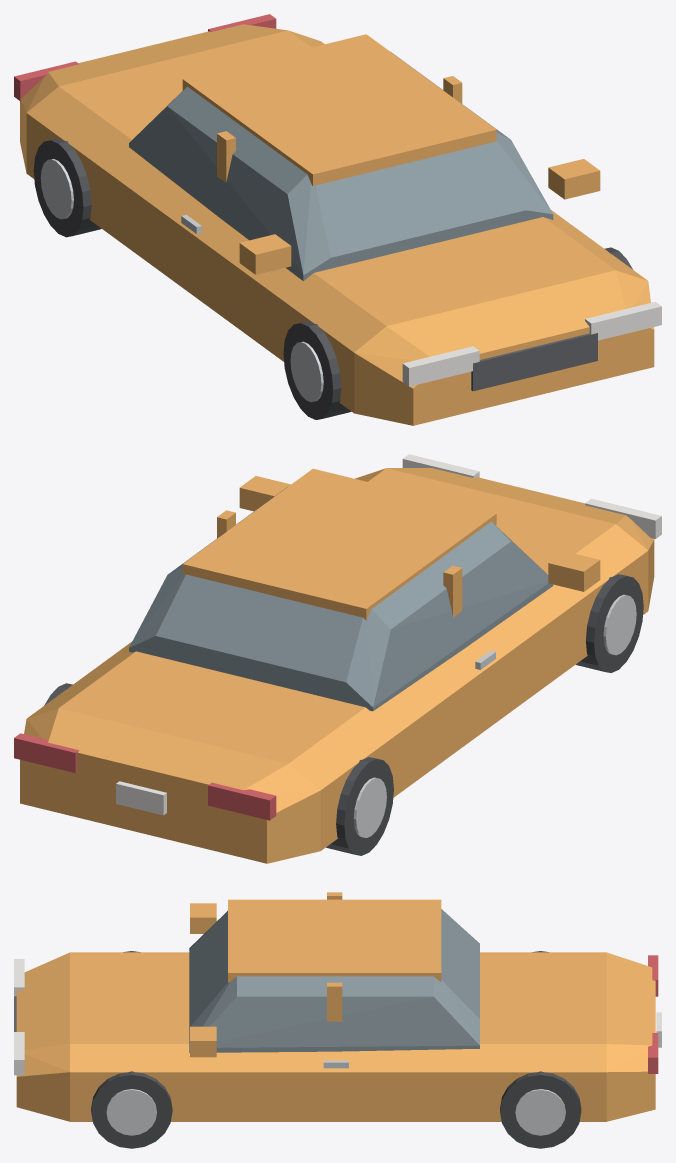
The model's file is temerario-2026.glb.
3 views of the same model, one above another, from view 1: azimuth 30°, elevation 25°; view 2: azimuth 150°, elevation 25°; view 3: azimuth 270°, elevation 25° (orthographic). The views are drawn at different scales.
Parts seen in each view (by area): view 1: body, cabin_glass, roof, grille, wheel_-1_1_tire, wheel_-1_-1_tire, headlight_-1, headlight_1, mirror_-1, mirror_1, wheel_-1_1_rim, wheel_-1_-1_rim (+2 smaller); view 2: body, cabin_glass, roof, wheel_-1_1_tire, wheel_-1_-1_tire, taillight_-1, mirror_-1, taillight_1, wheel_-1_1_rim, wheel_-1_-1_rim, rear_plate, mirror_1 (+3 smaller); view 3: body, cabin_glass, roof, wheel_1_-1_tire, wheel_1_1_tire, wheel_1_1_rim, wheel_1_-1_rim, mirror_1, mirror_-1, pillar_1, headlight_1, taillight_1.
Boxes of the visible parts, x1,y1,x2,y2 form: body: [20, 24, 654, 425]; cabin_glass: [129, 51, 553, 280]; roof: [182, 34, 496, 185]; grille: [471, 333, 597, 391]; wheel_-1_1_tire: [283, 321, 351, 419]; wheel_-1_-1_tire: [33, 138, 101, 237]; headlight_-1: [402, 346, 479, 386]; headlight_1: [585, 301, 661, 340]; mirror_-1: [239, 234, 291, 274]; mirror_1: [548, 159, 600, 199]; wheel_-1_1_rim: [290, 341, 323, 402]; wheel_-1_-1_rim: [40, 159, 73, 219]; body: [20, 468, 654, 863]; cabin_glass: [129, 487, 553, 711]; roof: [182, 468, 496, 620]; wheel_-1_1_tire: [576, 574, 643, 672]; wheel_-1_-1_tire: [326, 757, 393, 855]; taillight_-1: [208, 782, 276, 820]; mirror_-1: [548, 551, 600, 591]; taillight_1: [14, 733, 78, 773]; wheel_-1_1_rim: [603, 594, 636, 655]; wheel_-1_-1_rim: [353, 777, 386, 837]; rear_plate: [116, 781, 166, 815]; mirror_1: [239, 476, 290, 511]; body: [16, 952, 655, 1121]; cabin_glass: [189, 909, 479, 1052]; roof: [228, 899, 441, 982]; wheel_1_-1_tire: [500, 1071, 581, 1148]; wheel_1_1_tire: [91, 1071, 172, 1148]; wheel_1_1_rim: [106, 1089, 156, 1135]; wheel_1_-1_rim: [515, 1089, 565, 1135]; mirror_1: [190, 1026, 216, 1057]; mirror_-1: [190, 903, 216, 933]; pillar_1: [327, 982, 342, 1021]; headlight_1: [14, 1032, 24, 1075]; taillight_1: [648, 1033, 658, 1073].
Bounding box in the file's own units: 2.32 × 1.18 × 4.62.
